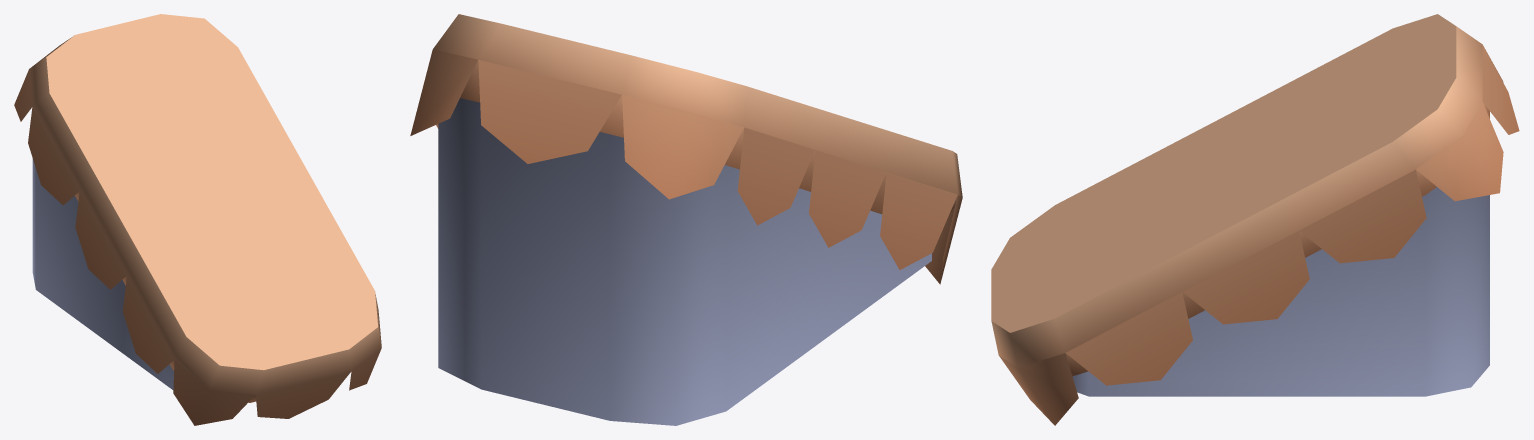
The model's file is block-grass-overhang-large-slope-steep-narrow.glb.
3 views of the same model, side by side, from view 1: azimuth 30°, elevation 25°; view 2: azimuth 150°, elevation 25°; view 3: azimuth 270°, elevation 25° (orthographic). The views are drawn at different scales.
Parts seen in each view (by area): view 1: block-grass-overhang-large-slope-steep-narrow; view 2: block-grass-overhang-large-slope-steep-narrow; view 3: block-grass-overhang-large-slope-steep-narrow.
Boxes of the visible parts, box(x1,y1,x2,y2) form: block-grass-overhang-large-slope-steep-narrow: box(14, 14, 381, 425); block-grass-overhang-large-slope-steep-narrow: box(410, 14, 962, 425); block-grass-overhang-large-slope-steep-narrow: box(991, 14, 1519, 425).
Size of the model in its own units: 1.08 by 1.37 by 1.97.
